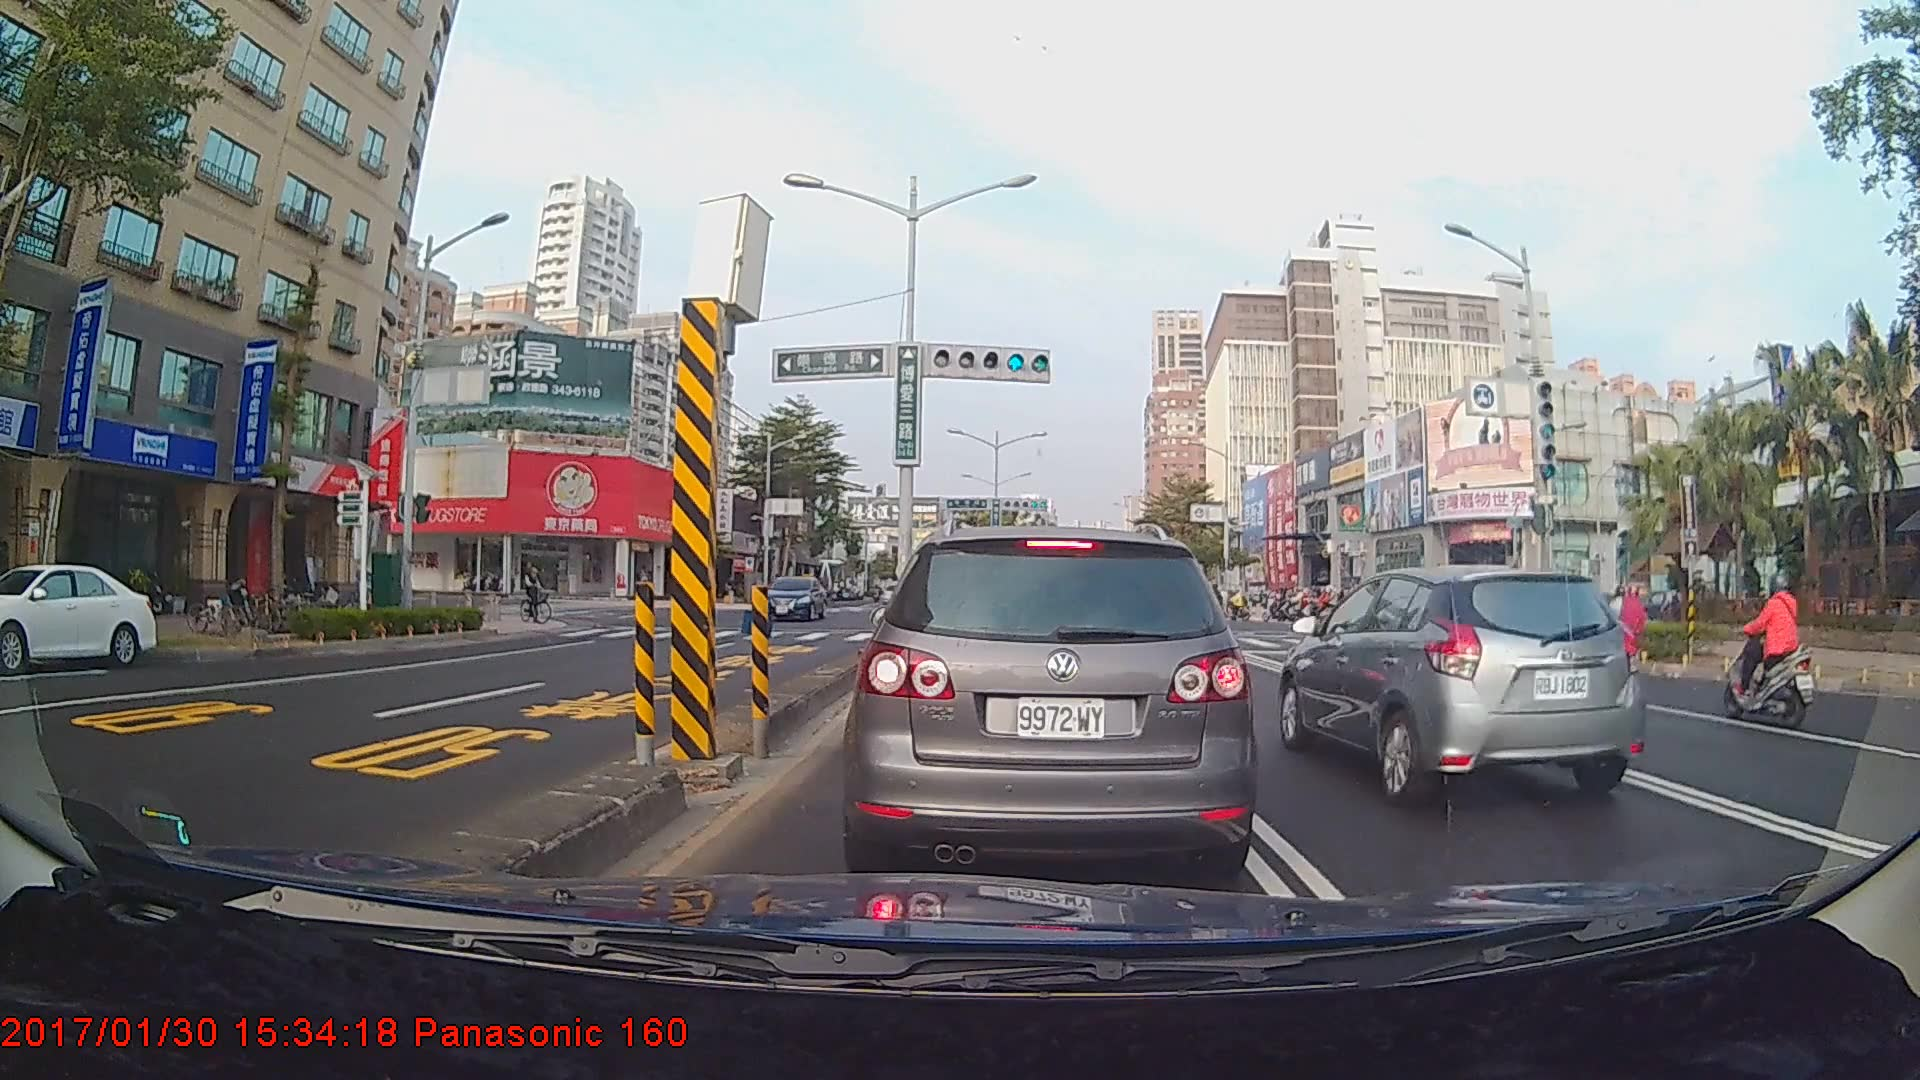pedestrian: (1661, 581, 1684, 642)
rider: (1726, 567, 1815, 728), (518, 559, 561, 629)
vehicle: (852, 526, 1249, 877), (1274, 563, 1646, 812), (0, 561, 157, 671), (761, 574, 827, 623)
